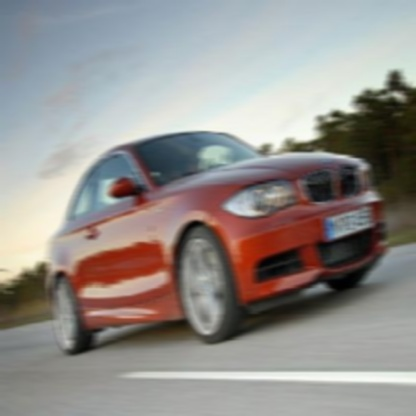Vehicle: (45, 129, 388, 356)
